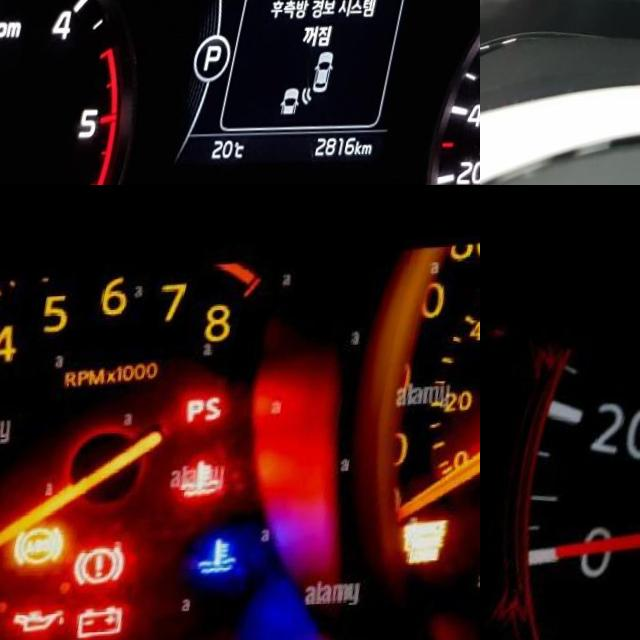Engine cooling system: (212, 527, 261, 573), (191, 451, 240, 494)
